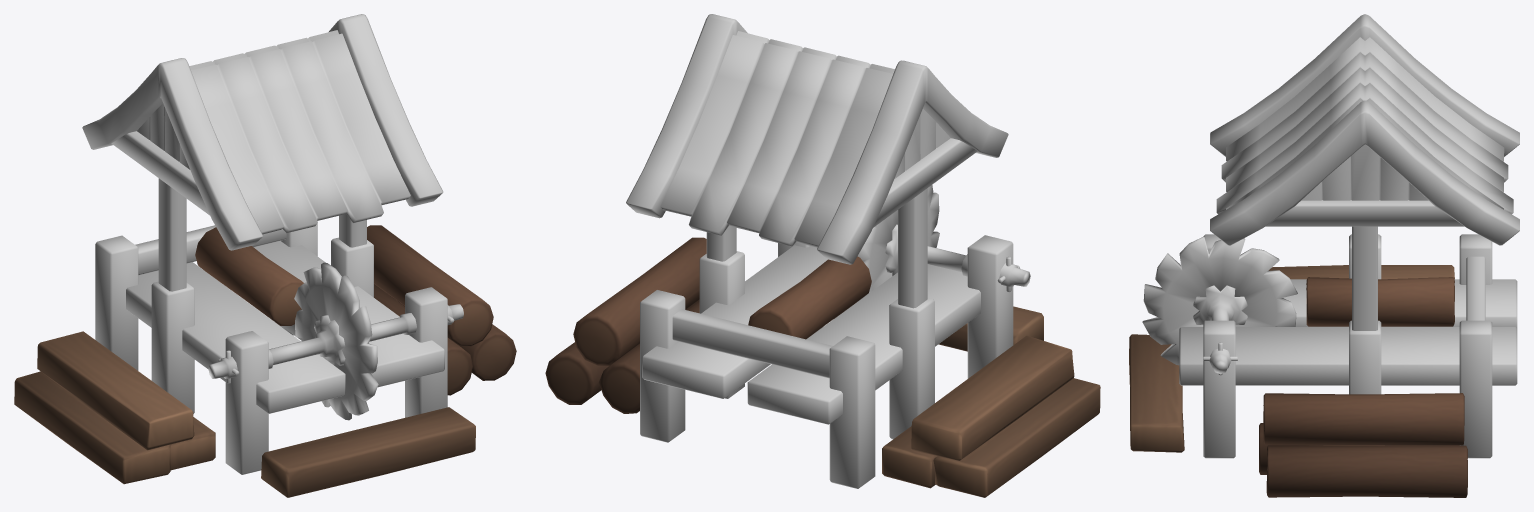
The model's file is sawMill_lod.fbx.
The picture shows the model from 3 angles, left to right: view 1: azimuth 30°, elevation 25°; view 2: azimuth 150°, elevation 25°; view 3: azimuth 270°, elevation 25°; orthographic projection. The views are drawn at different scales.
Parts seen in each view (by area): view 1: sawMill_LOD0, sawProps_LOD0, saw_LOD0; view 2: sawMill_LOD0, sawProps_LOD0, saw_LOD0; view 3: sawMill_LOD0, sawProps_LOD0, saw_LOD0.
Part boxes in pixels (<box>): sawMill_LOD0: <box>82,14,447,474</box>; sawProps_LOD0: <box>14,225,516,497</box>; saw_LOD0: <box>208,262,463,420</box>; sawMill_LOD0: <box>626,14,1013,488</box>; sawProps_LOD0: <box>545,237,1100,497</box>; saw_LOD0: <box>857,185,1030,301</box>; sawMill_LOD0: <box>1179,14,1519,458</box>; sawProps_LOD0: <box>1129,265,1467,497</box>; saw_LOD0: <box>1142,236,1297,375</box>.
Size of what is drawn, in the model's own units: 231 by 190 by 194.
